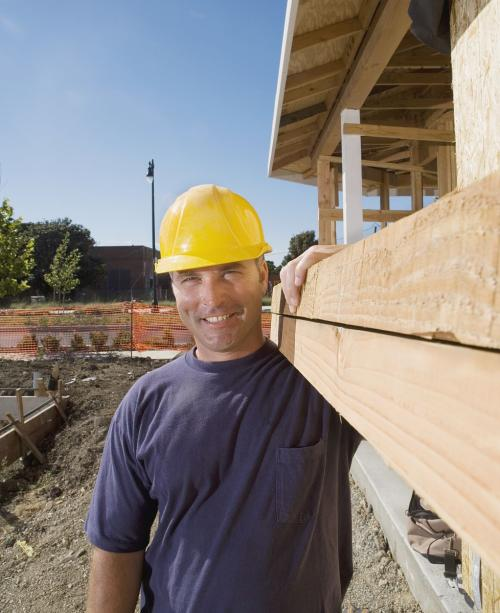gloves: (154, 183, 273, 275)
hard-hat: (154, 183, 273, 275)
person: (83, 182, 364, 611)
